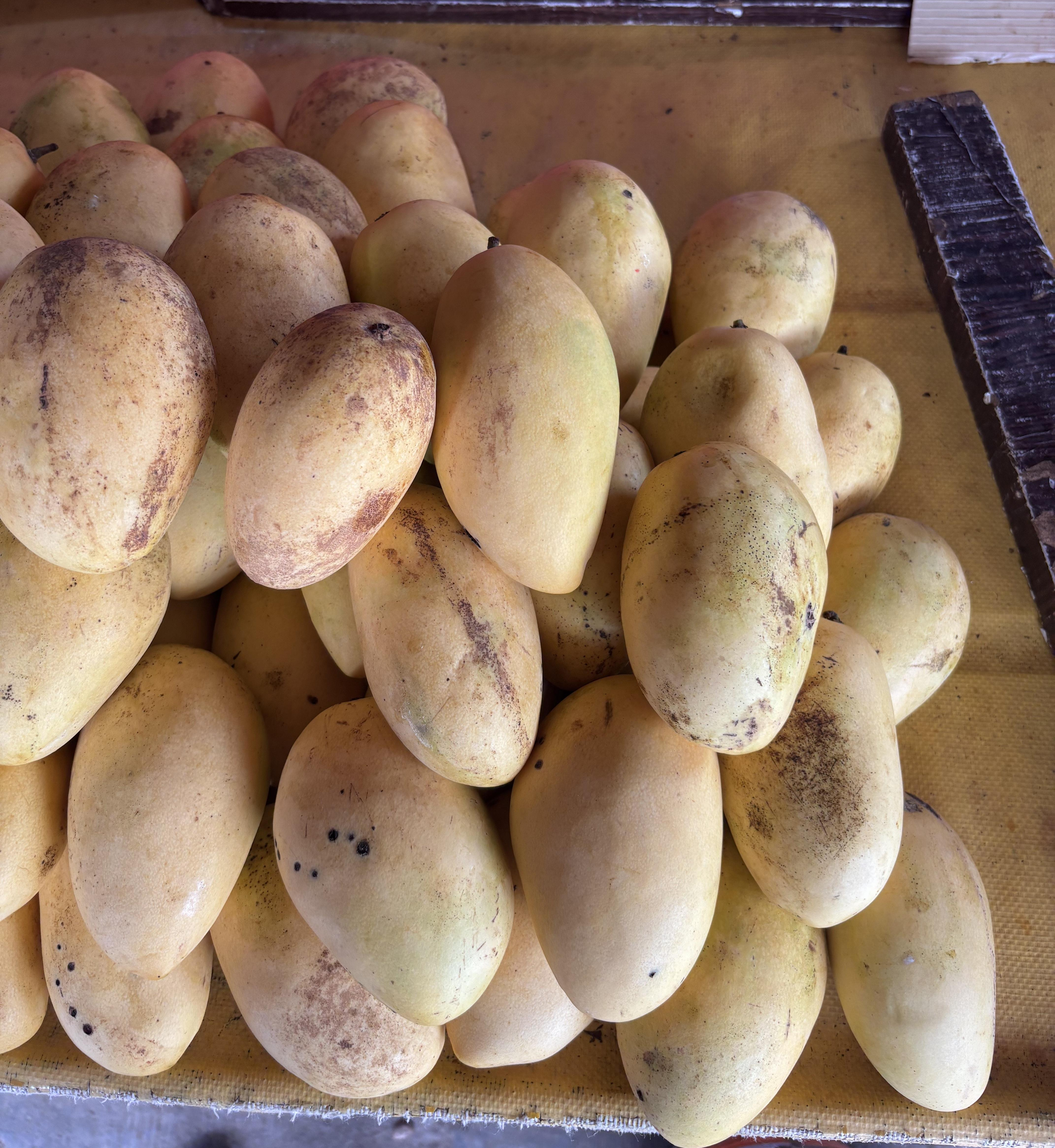mango: (0, 237, 216, 573), (67, 645, 269, 979), (432, 242, 620, 593), (621, 442, 827, 755), (225, 303, 436, 589)
occluded: (273, 697, 513, 1026), (510, 675, 723, 1022), (211, 806, 444, 1097), (617, 828, 827, 1148), (348, 484, 542, 786), (721, 615, 903, 928), (828, 792, 995, 1111), (165, 194, 349, 448), (488, 160, 671, 406), (640, 327, 833, 545), (0, 523, 170, 765), (447, 796, 593, 1068), (40, 853, 213, 1075), (531, 421, 653, 691), (211, 574, 365, 785), (824, 512, 970, 723), (670, 191, 837, 358), (200, 147, 367, 278), (350, 200, 490, 345), (28, 140, 192, 258), (321, 99, 475, 222), (799, 347, 901, 524), (285, 56, 447, 161), (10, 68, 148, 174), (0, 741, 74, 920), (141, 51, 274, 150), (168, 439, 239, 600), (167, 114, 283, 208), (0, 897, 49, 1053), (301, 565, 365, 678), (0, 128, 55, 215), (0, 201, 44, 287), (621, 366, 659, 429)
